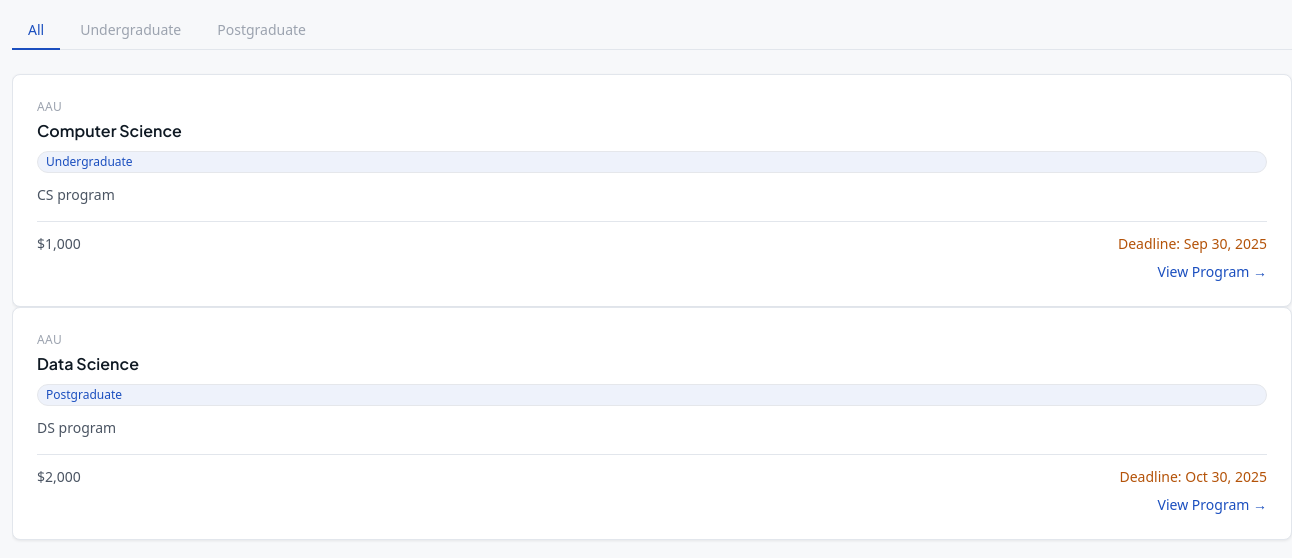
Test: ProgramFilterClient › filters by undergraduate when tab clicked
Click the button "Undergraduate" at (131, 31), box [64, 12, 197, 50]
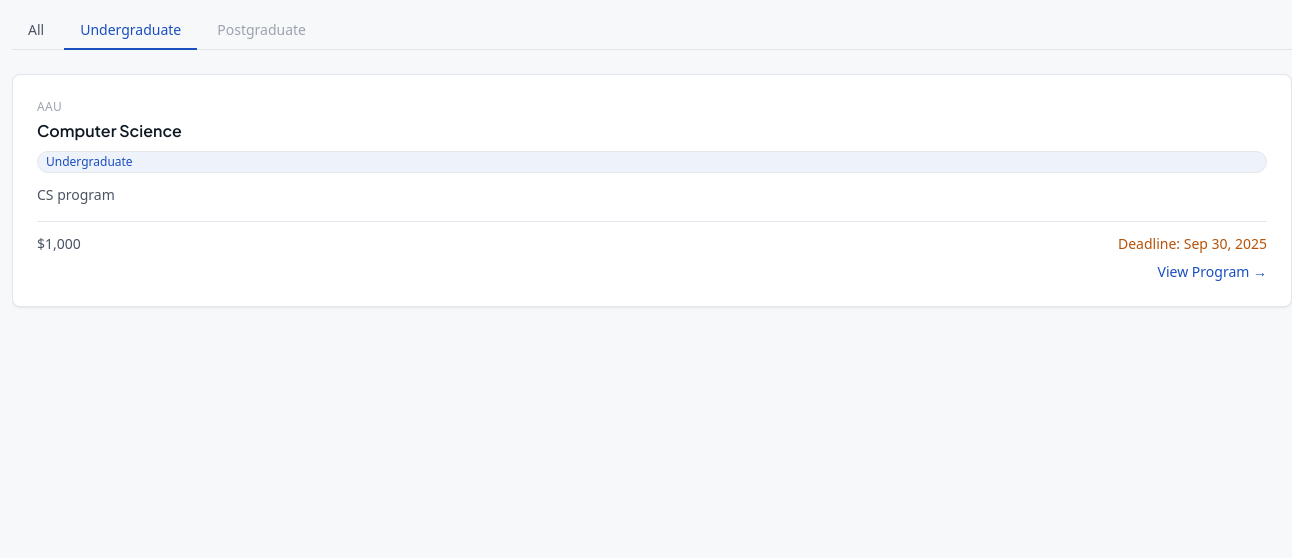
Expected: the heading "Computer Science" is shown, [37, 120, 182, 141]
Now the link "Data Science" is gone
